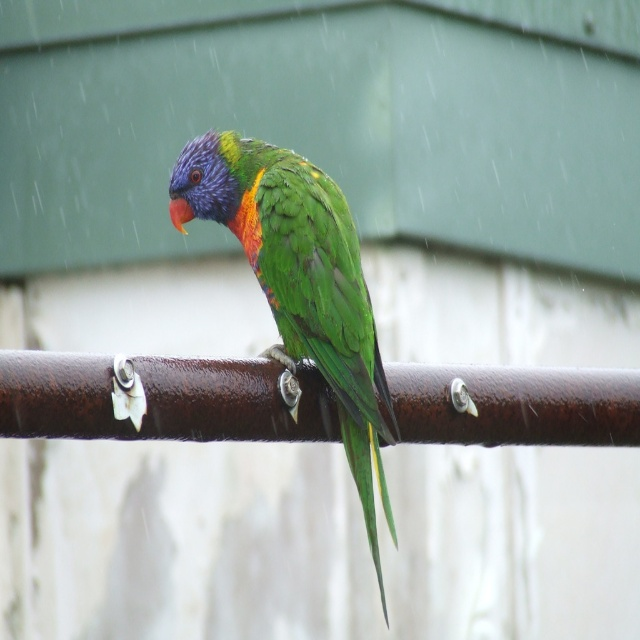Parrot: (168, 126, 401, 631)
